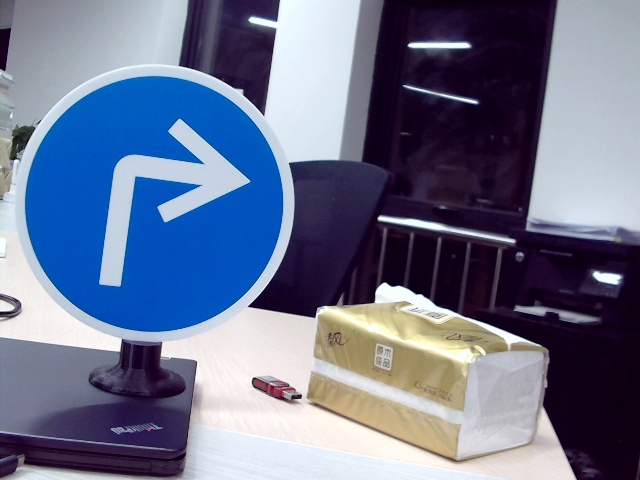turn_right: (95, 106, 247, 293)
